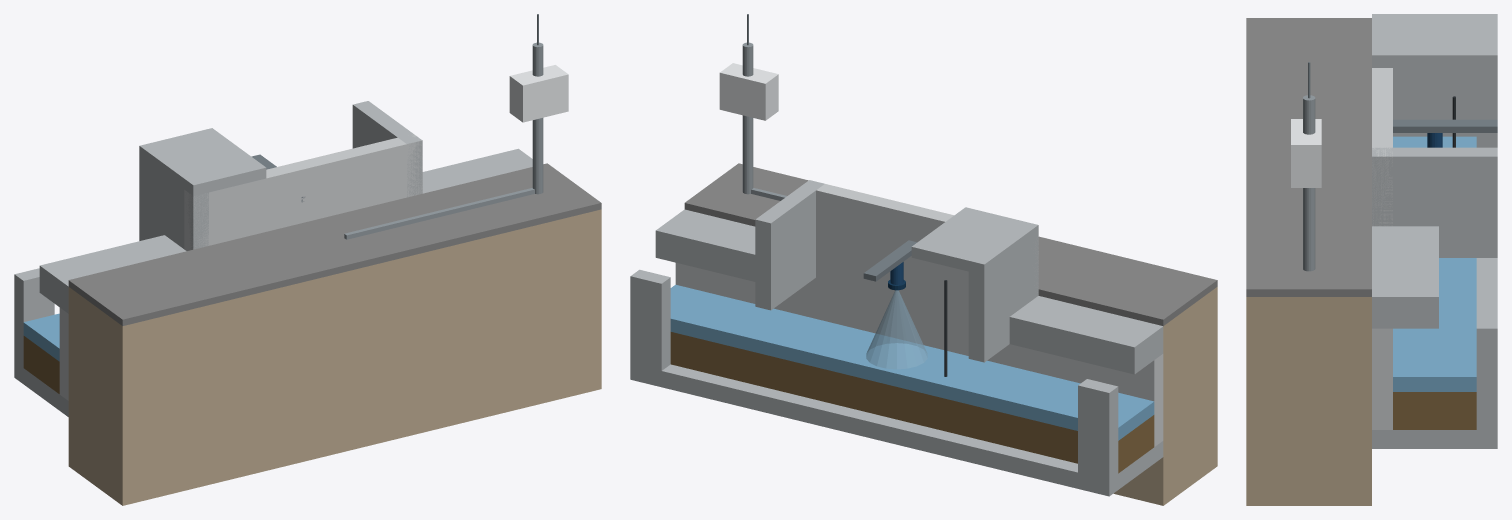
Rendered from sigap_drainase.obj.
The picture shows the model from 3 angles, left to right: view 1: azimuth 30°, elevation 25°; view 2: azimuth 150°, elevation 25°; view 3: azimuth 270°, elevation 25°; orthographic projection. The views are drawn at different scales.
Visible parts, largest first — view 1: tanah_belakang, jalan, dinding_bak, pelat_saluran, tutup_bak, kotak_panel, bekas_potongan, pipa_kabel, tiang, endapan, air, dasar_beton (+1 smaller); view 2: dinding_bak, air, endapan, dinding_belakang, jalan, pelat_saluran, dasar_beton, tanah_belakang, bekas_potongan, tutup_bak, berkas_radar, kotak_panel (+2 smaller); view 3: jalan, tanah_belakang, dinding_bak, air, pelat_saluran, tutup_bak, dasar_beton, endapan, bekas_potongan, dinding_belakang, kotak_panel, tiang (+1 smaller).
Part boxes in pixels (box(x1,y1,x2,y2)): tanah_belakang: box(68, 209, 601, 505); jalan: box(68, 163, 601, 325); dinding_bak: box(139, 101, 422, 250); pelat_saluran: box(39, 148, 532, 313); tutup_bak: box(139, 128, 266, 196); kotak_panel: box(509, 65, 568, 122); bekas_potongan: box(14, 268, 54, 367); pipa_kabel: box(344, 188, 534, 239); tiang: box(532, 42, 543, 194); endapan: box(23, 336, 59, 393); air: box(23, 313, 59, 361); dasar_beton: box(14, 361, 68, 416); dinding_bak: box(755, 180, 1038, 362); air: box(670, 284, 1154, 440); endapan: box(670, 332, 1154, 473); dinding_belakang: box(675, 263, 1163, 446); jalan: box(684, 163, 1217, 326); pelat_saluran: box(655, 209, 1163, 374); dasar_beton: box(630, 363, 1163, 496); tanah_belakang: box(1113, 287, 1217, 505); bekas_potongan: box(630, 269, 1118, 479); tutup_bak: box(911, 207, 1038, 275); berkas_radar: box(866, 290, 927, 369); kotak_panel: box(719, 63, 778, 120); jalan: box(1246, 18, 1371, 296); tanah_belakang: box(1246, 297, 1371, 505); dinding_bak: box(1372, 68, 1497, 257); air: box(1393, 136, 1476, 391); pelat_saluran: box(1372, 226, 1438, 328); tutup_bak: box(1372, 14, 1497, 67); dasar_beton: box(1372, 258, 1497, 448); endapan: box(1393, 392, 1476, 429); bekas_potongan: box(1476, 136, 1497, 429); dinding_belakang: box(1372, 328, 1392, 429); kotak_panel: box(1291, 119, 1321, 187); tiang: box(1303, 95, 1315, 271).
Bounding box in the file's own units: 4.6 × 3.34 × 1.8.
